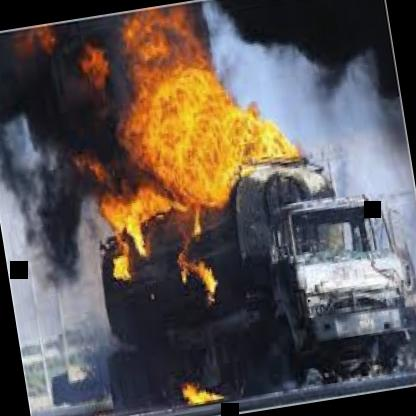fire: (25, 0, 414, 410)
